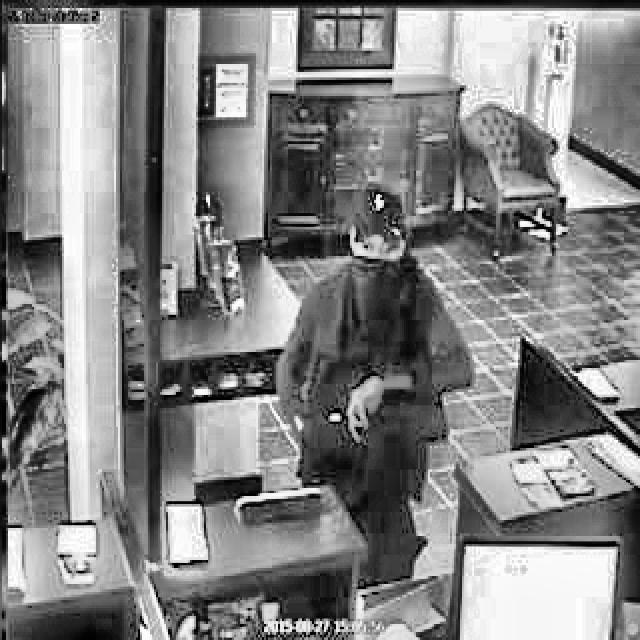robbery: (276, 181, 474, 575)
